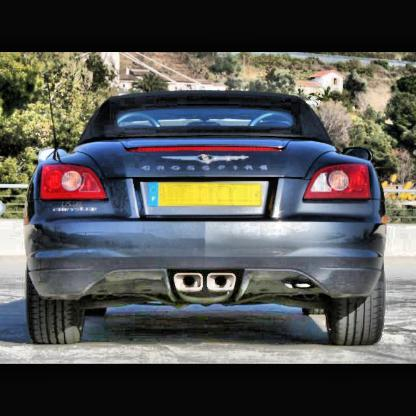Chrysler Crossfire Convertible 2008: (26, 92, 389, 347)
